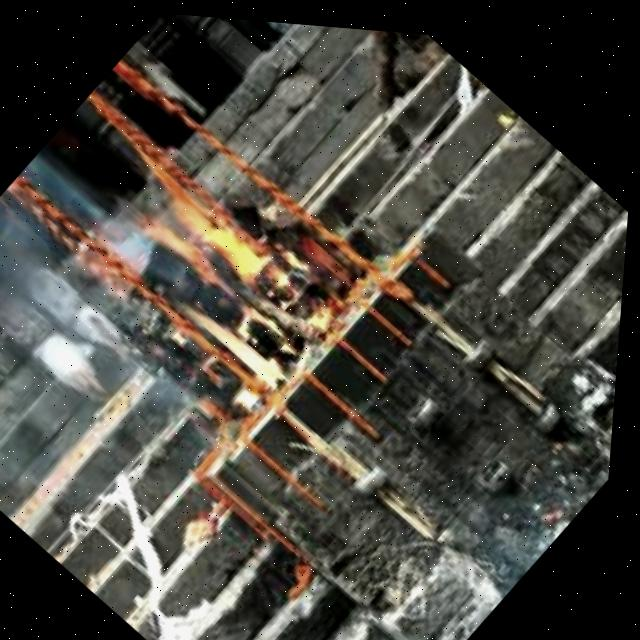Fire: (83, 148, 356, 405)
